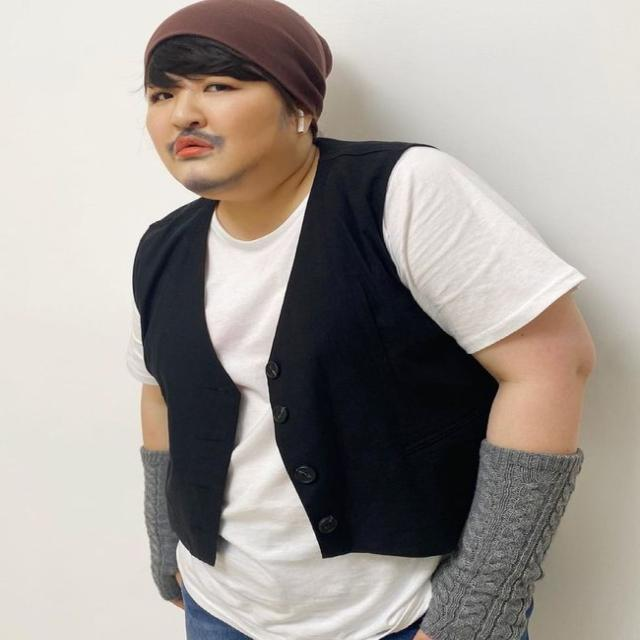earphone: (286, 92, 312, 146)
